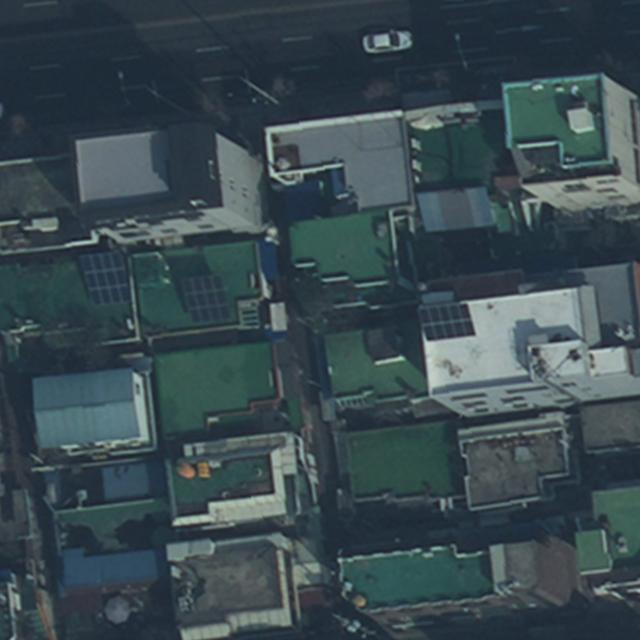solarpanel: (76, 250, 132, 306), (179, 273, 232, 323), (416, 300, 476, 340)
